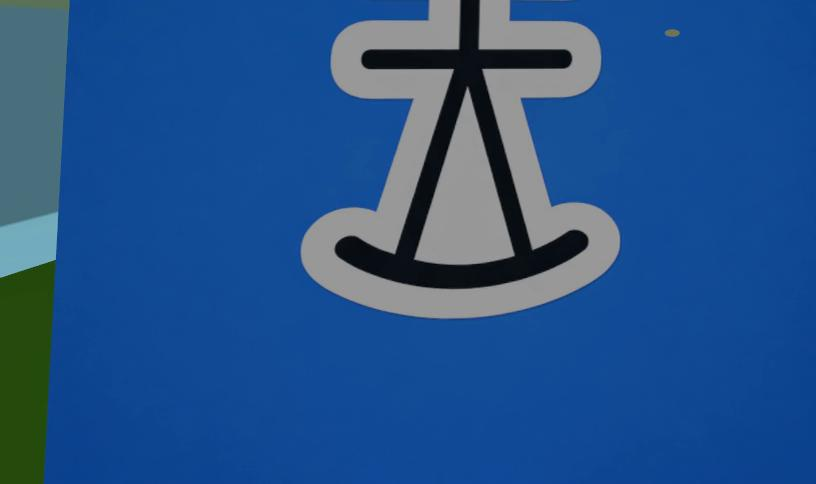KFS_REAL: (46, 0, 816, 483), (302, 0, 618, 318)
